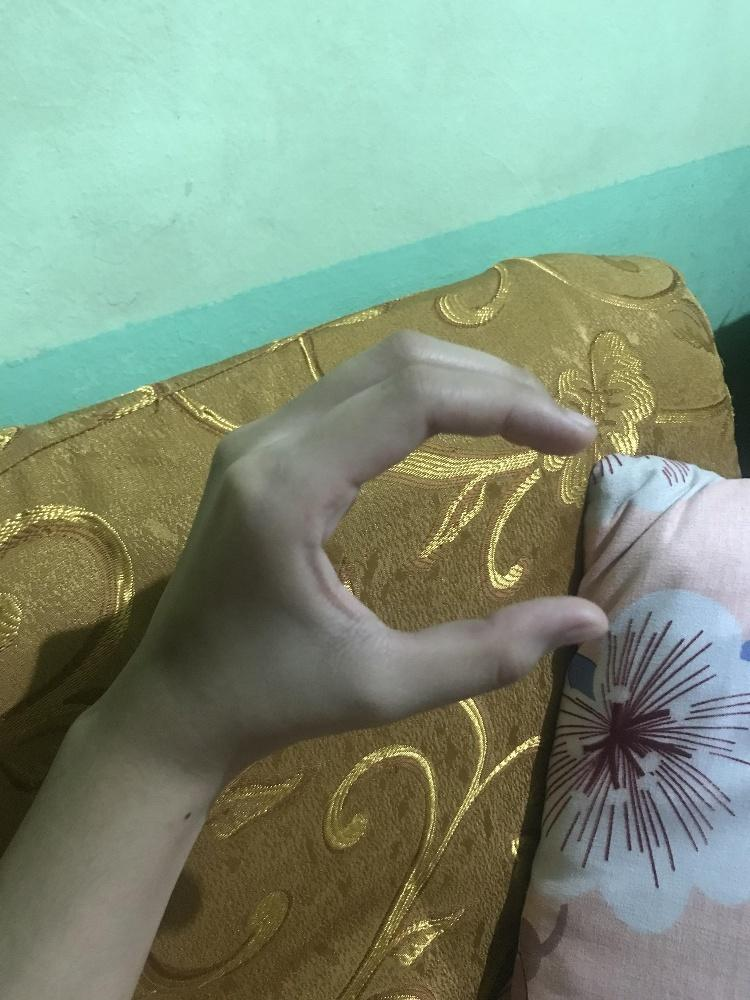c: (165, 324, 613, 760)
